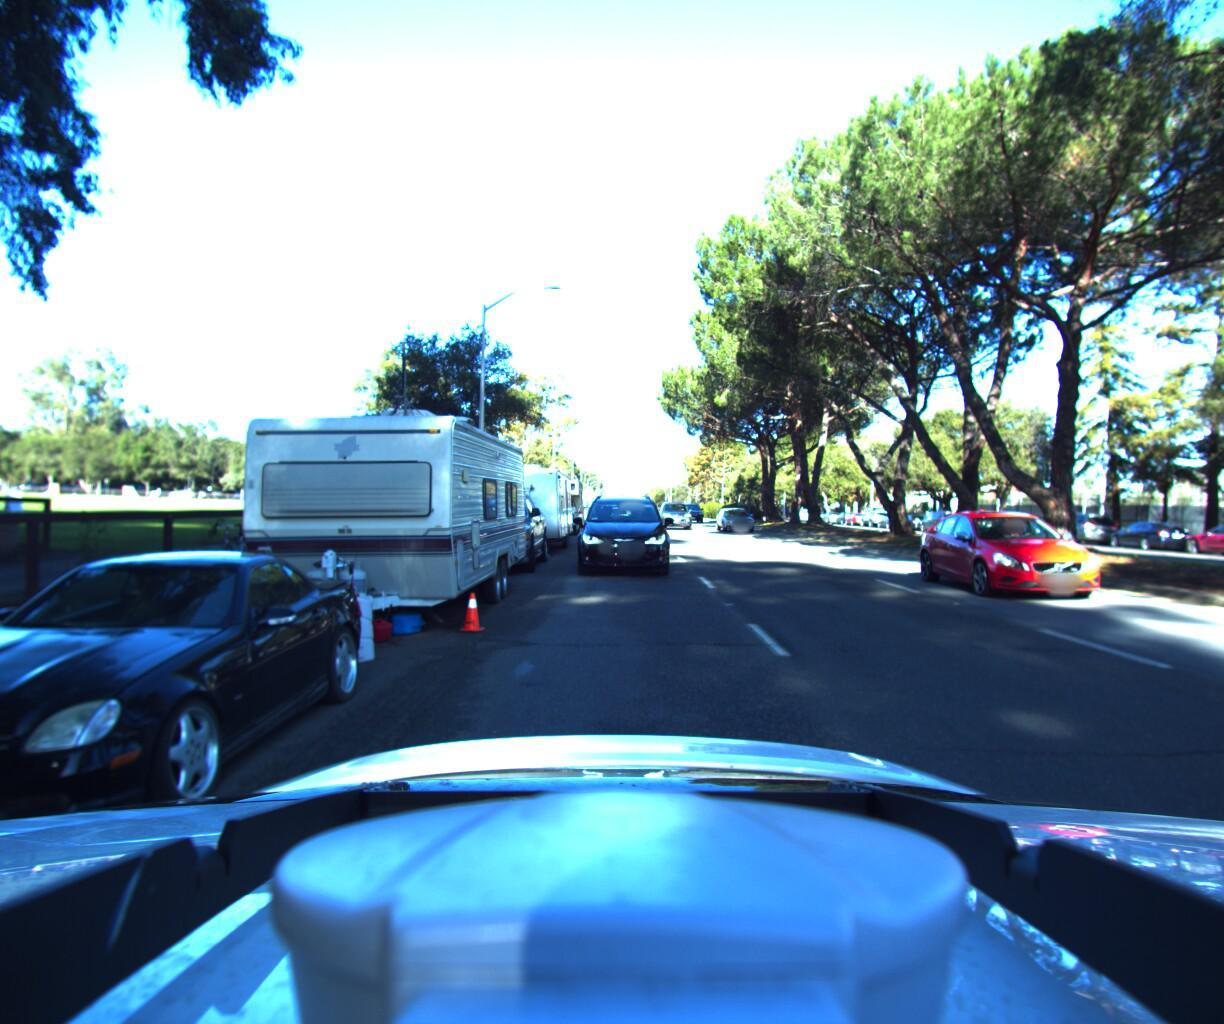bicycle: (200, 510, 279, 593)
car: (0, 540, 381, 897), (925, 505, 1184, 613), (417, 488, 556, 584), (570, 495, 665, 586), (1102, 519, 1197, 555), (1036, 510, 1118, 547), (1173, 520, 1224, 565), (714, 507, 763, 535), (659, 498, 697, 530), (680, 508, 708, 528), (842, 509, 871, 527)
other_vehicle: (155, 366, 533, 672), (466, 467, 572, 565), (525, 473, 585, 538), (561, 491, 590, 525)
